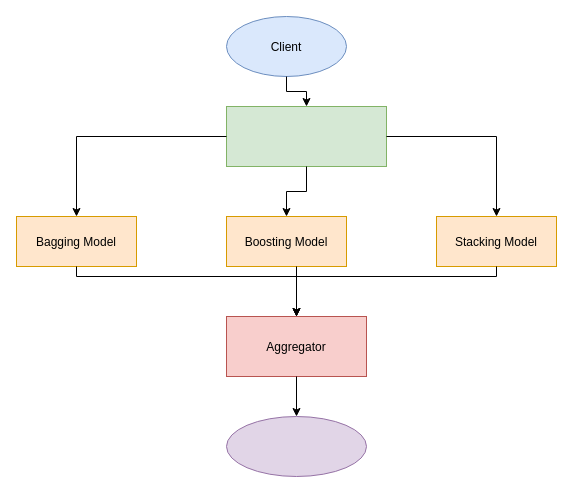
Image size: 573x493. Some labels were removed from this diagram. The box of each missing label's shape, as (x1, y1, x2, y2) in pixels:
API Gateway (Flask App): (226, 106, 386, 166)
Final Prediction: (226, 416, 366, 476)
